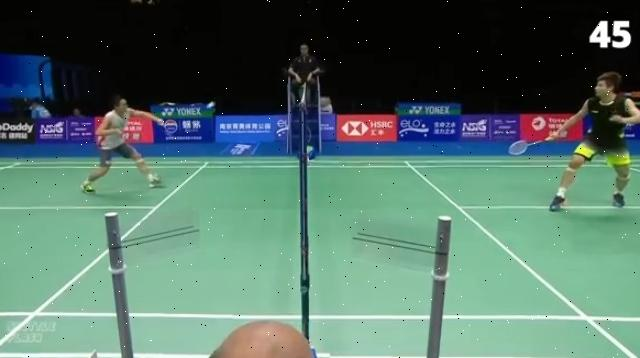Shuttlecock: (202, 100, 215, 112)
